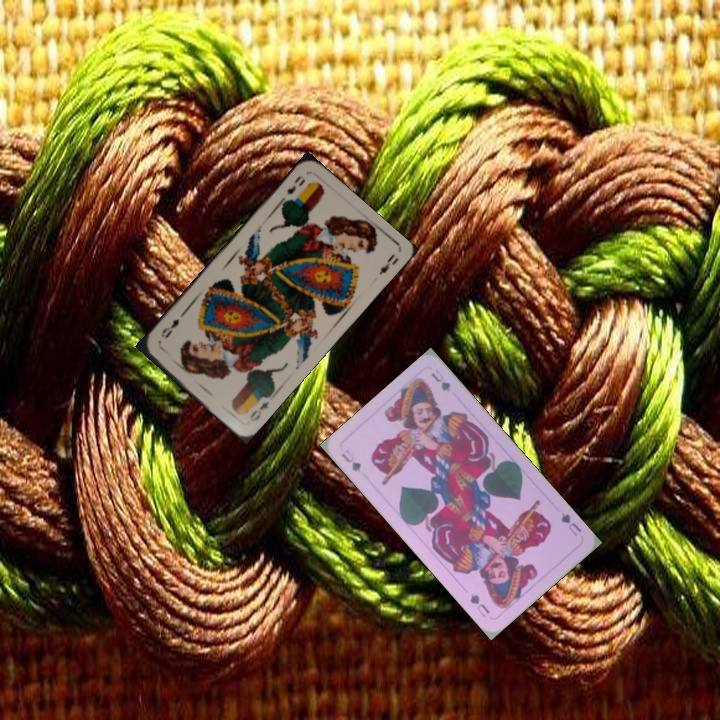EO: (278, 171, 308, 205), (245, 397, 272, 424)
GU: (337, 445, 364, 475), (557, 509, 584, 538)
